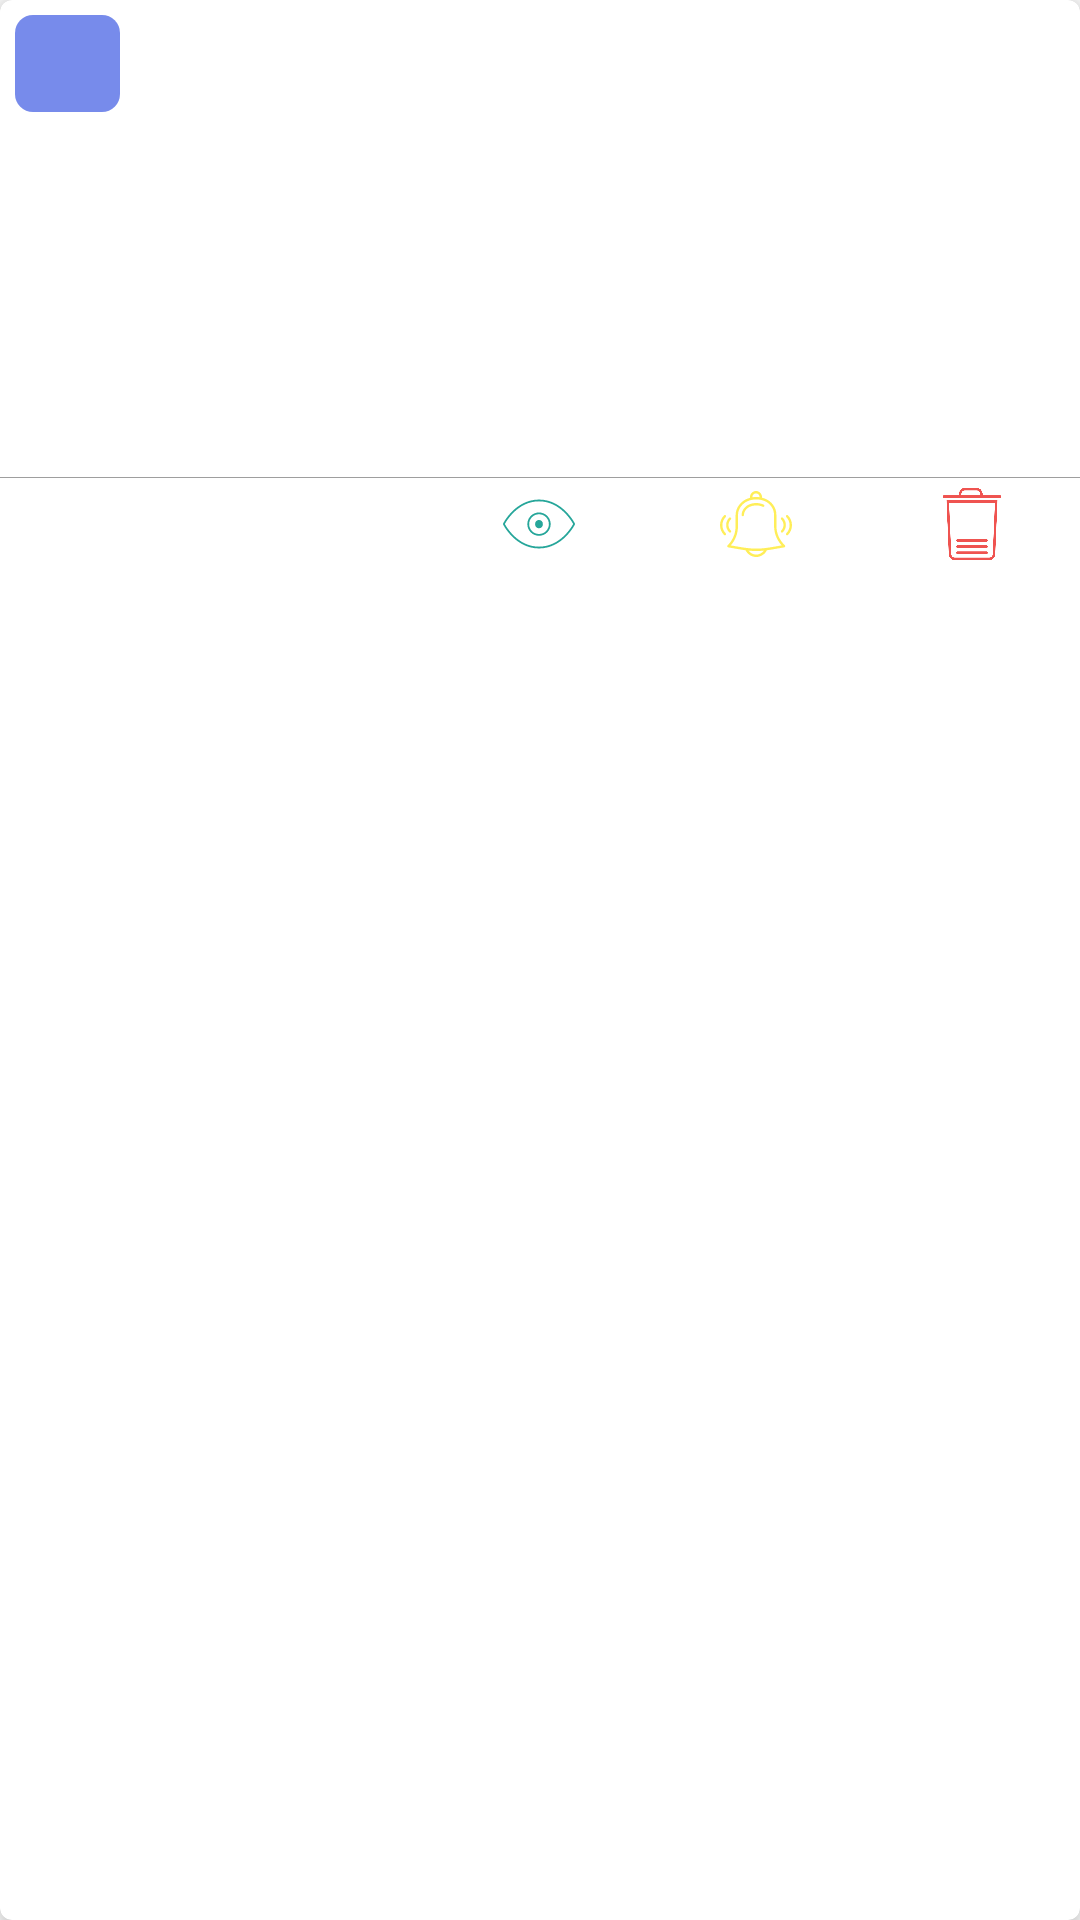

Where icons sit on this 1080x1920 app screen, as bbox=(x1, y1, x2, y2):
reminder: bbox=(720, 491, 792, 557)
trash: bbox=(943, 488, 1001, 560)
view: bbox=(503, 499, 575, 549)
